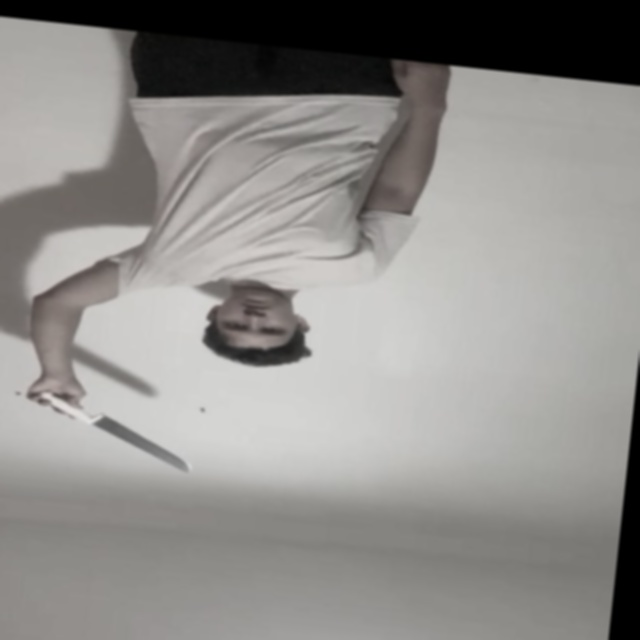Sharp-Object: (88, 418, 196, 476)
